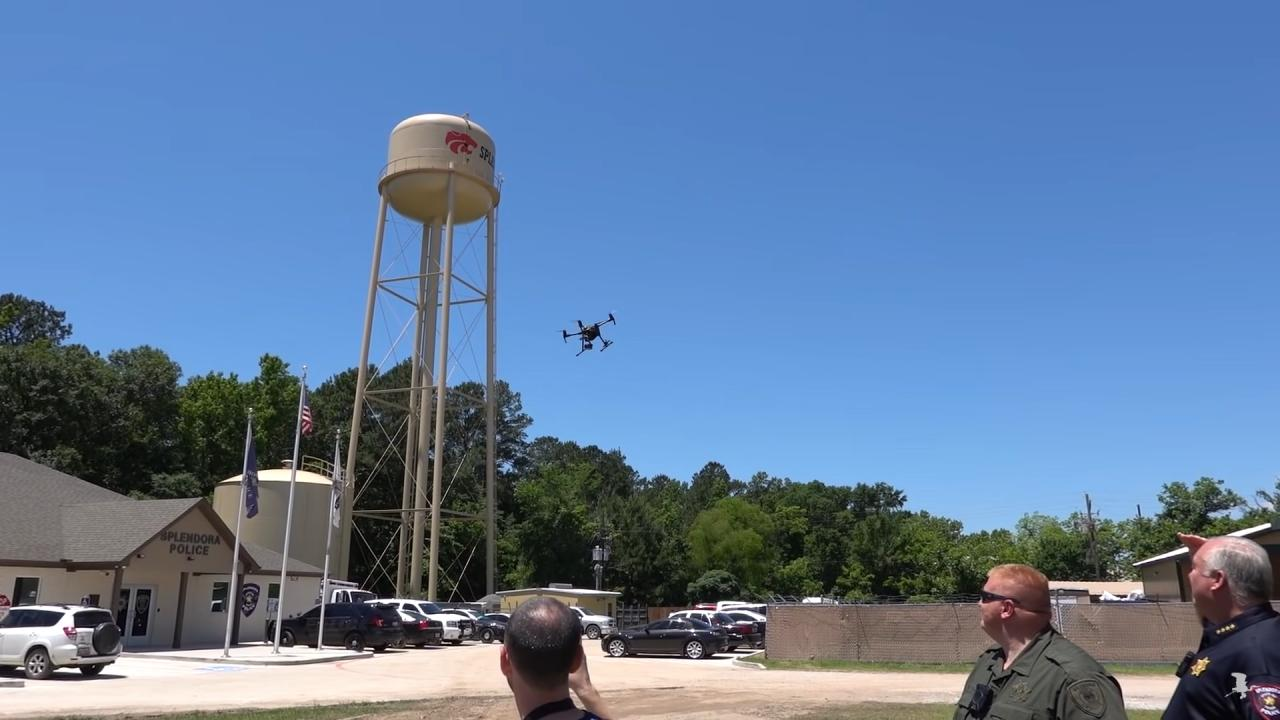Drone: (547, 303, 631, 367)
